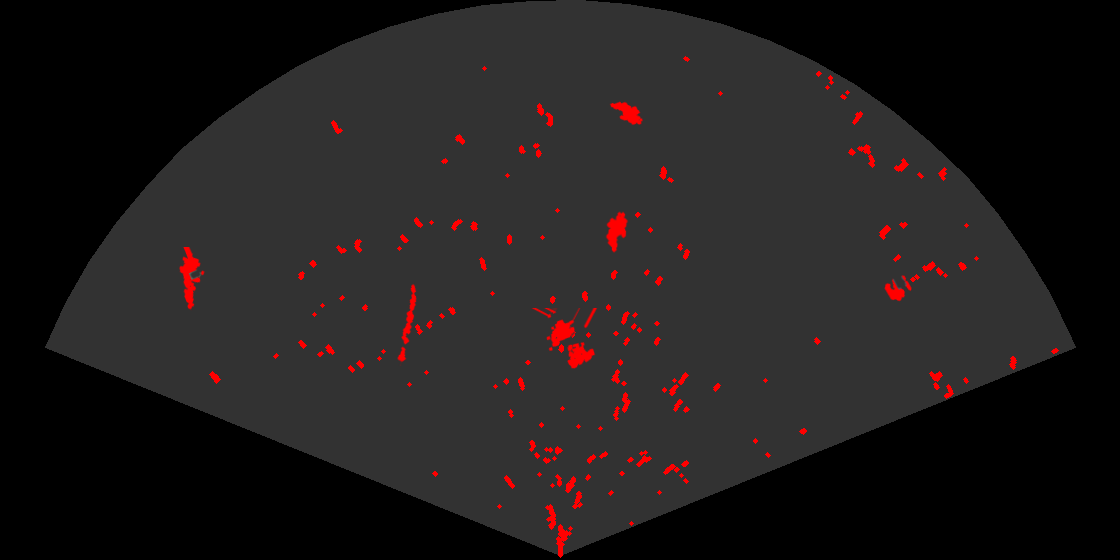AUV: (604, 210, 630, 254), (608, 100, 645, 127)
ball: (883, 274, 913, 303)
cage: (530, 308, 599, 370)
chain: (396, 282, 418, 366)
frogman: (178, 247, 206, 311)
